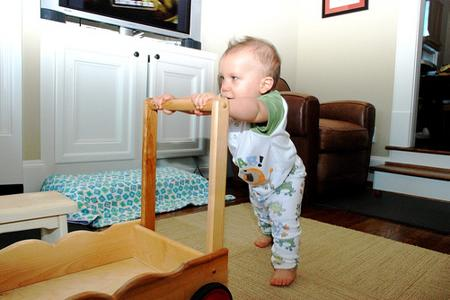person: (151, 37, 309, 287)
